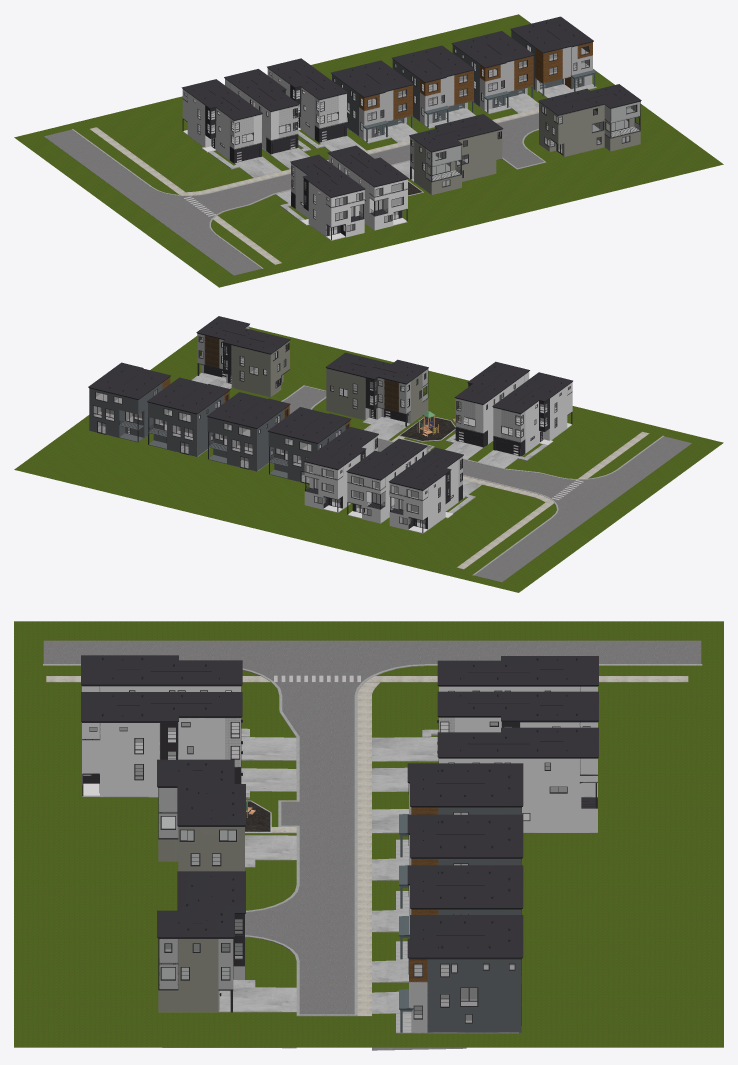
File: house.glb
3 renders of one model, top to bottom at view 1: azimuth 30°, elevation 25°; view 2: azimuth 150°, elevation 25°; view 3: azimuth 270°, elevation 25°, orthographic. The views are drawn at different scales.
Visible parts, largest first — view 1: Plane.012, Line001, 1_low.007, 1_low.008, 3_low.001, 3_low.004, 2_low.003, 2_low.005, 2_low.004, 2_low.006, 3_low, Rectangle009 (+6 smaller); view 2: Plane.012, Line001, 1_low.008, 1_low.007, 3_low.004, 3_low.001, 2_low.005, 2_low.004, 2_low.006, 3_low, 3_low.002, 2_low.003 (+5 smaller); view 3: Plane.012, Line001, 3_low.003, 2_low.004, Rectangle009, 1_low.007, 3_low, 1_low.008, Rectangle2106771930, 2_low.003, 2_low.005, 3_low.002 (+8 smaller).
Boxes of the visible parts, bbox=[...] form: Plane.012: bbox=[14, 14, 723, 287]; Line001: bbox=[44, 113, 543, 275]; 1_low.007: bbox=[538, 84, 641, 156]; 1_low.008: bbox=[409, 114, 503, 194]; 3_low.001: bbox=[181, 79, 262, 163]; 3_low.004: bbox=[290, 154, 365, 240]; 2_low.003: bbox=[331, 60, 413, 141]; 2_low.005: bbox=[392, 45, 474, 127]; 2_low.004: bbox=[510, 16, 596, 96]; 2_low.006: bbox=[451, 31, 534, 112]; 3_low: bbox=[267, 58, 347, 142]; Rectangle009: bbox=[208, 83, 629, 220]; Plane.012: bbox=[14, 327, 723, 592]; Line001: bbox=[282, 386, 691, 582]; 1_low.008: bbox=[325, 352, 428, 426]; 1_low.007: bbox=[196, 316, 290, 397]; 3_low.004: bbox=[492, 372, 572, 456]; 3_low.001: bbox=[389, 447, 463, 533]; 2_low.005: bbox=[207, 392, 290, 471]; 2_low.004: bbox=[88, 362, 170, 442]; 2_low.006: bbox=[147, 377, 230, 456]; 3_low: bbox=[304, 427, 378, 512]; 3_low.002: bbox=[346, 438, 427, 523]; 2_low.003: bbox=[268, 407, 351, 484]; Plane.012: bbox=[14, 621, 723, 1047]; Line001: bbox=[43, 640, 701, 1014]; 3_low.003: bbox=[81, 692, 242, 797]; 2_low.004: bbox=[399, 915, 523, 1032]; Rectangle009: bbox=[162, 728, 466, 1050]; 1_low.007: bbox=[157, 871, 245, 1012]; 3_low: bbox=[437, 727, 598, 832]; 1_low.008: bbox=[157, 759, 245, 871]; Rectangle2106771930: bbox=[46, 676, 688, 1016]; 2_low.003: bbox=[399, 763, 523, 857]; 2_low.005: bbox=[399, 814, 523, 908]; 3_low.002: bbox=[437, 691, 598, 762].
Size of the model in its own units: 107 by 15.12 by 75.03.
13 materials, 10 textured.
